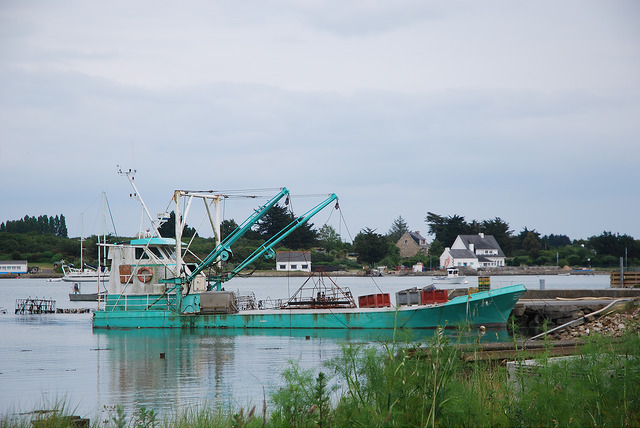fishing_boat: (92, 165, 527, 329)
